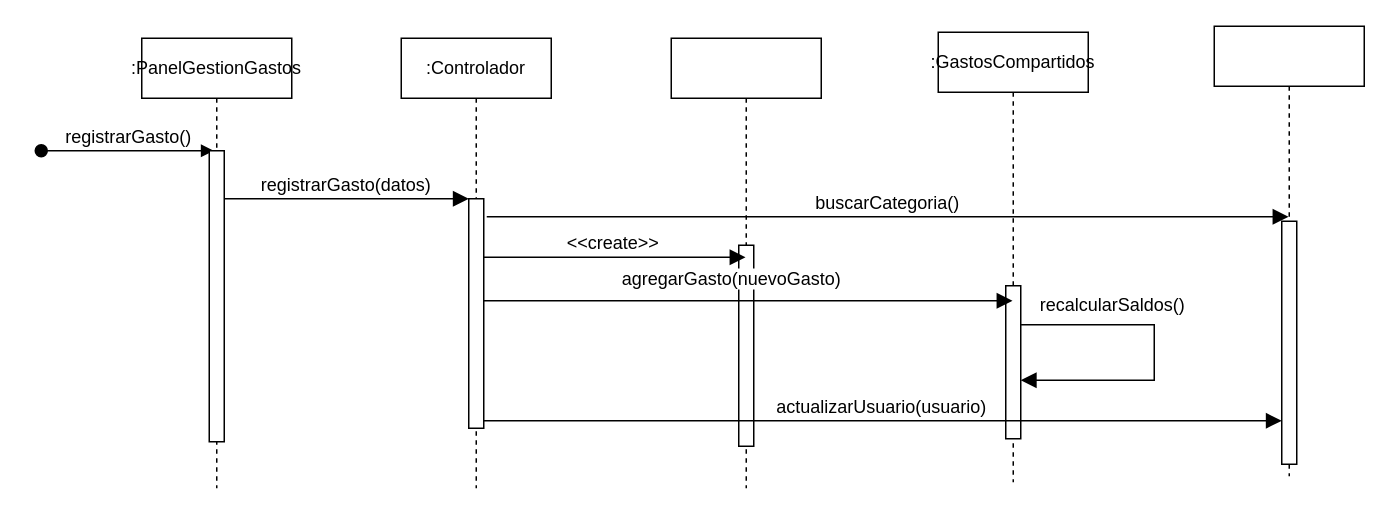
Image size: 1391x515. Some labels were removed from this diagram. The centre of each missing label's shape, as x and y in pixels:
":Gasto" goes at (x=745, y=262).
":RepositorioJSON" goes at (x=1288, y=250).
